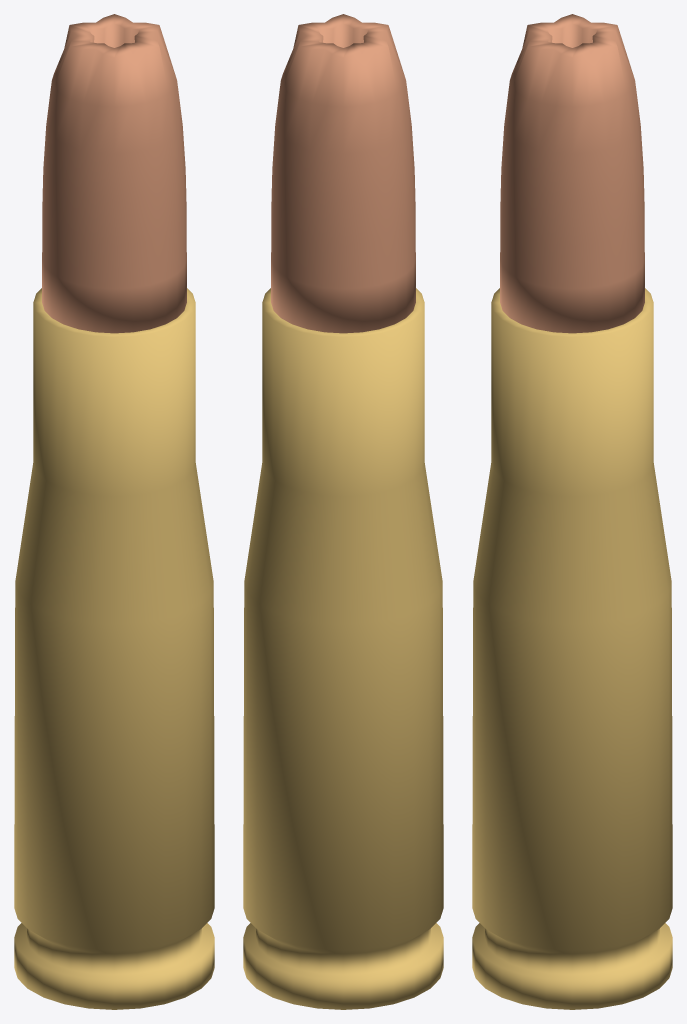
3 views of the same model, side by side, from view 1: azimuth 30°, elevation 25°; view 2: azimuth 150°, elevation 25°; view 3: azimuth 270°, elevation 25° (orthographic).
Parts seen in each view (by area): view 1: vaina, bala_hueca; view 2: vaina, bala_hueca; view 3: vaina, bala_hueca.
Part boxes in pixels (x1=…): vaina: x1=14, y1=288, x2=214, y2=1009; bala_hueca: x1=42, y1=14, x2=186, y2=333; vaina: x1=243, y1=288, x2=443, y2=1009; bala_hueca: x1=271, y1=14, x2=415, y2=333; vaina: x1=472, y1=288, x2=672, y2=1009; bala_hueca: x1=500, y1=14, x2=644, y2=333.
Bounding box in the file's own units: 0.0079 × 0.0405 × 0.0079.
